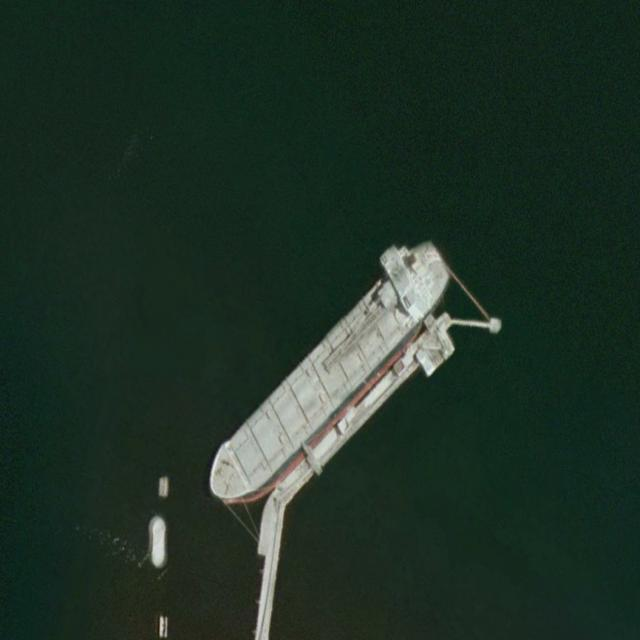Cargo: (192, 214, 461, 532)
